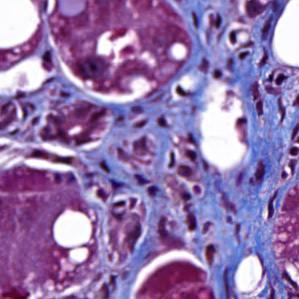inflammation: (160, 147, 206, 181), (256, 66, 292, 98)
